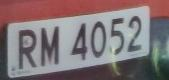0: (89, 16, 110, 63)
2: (126, 12, 146, 58)
4: (68, 18, 91, 68)
5: (108, 13, 128, 60)
M: (37, 24, 64, 72)
R: (14, 25, 39, 73)
